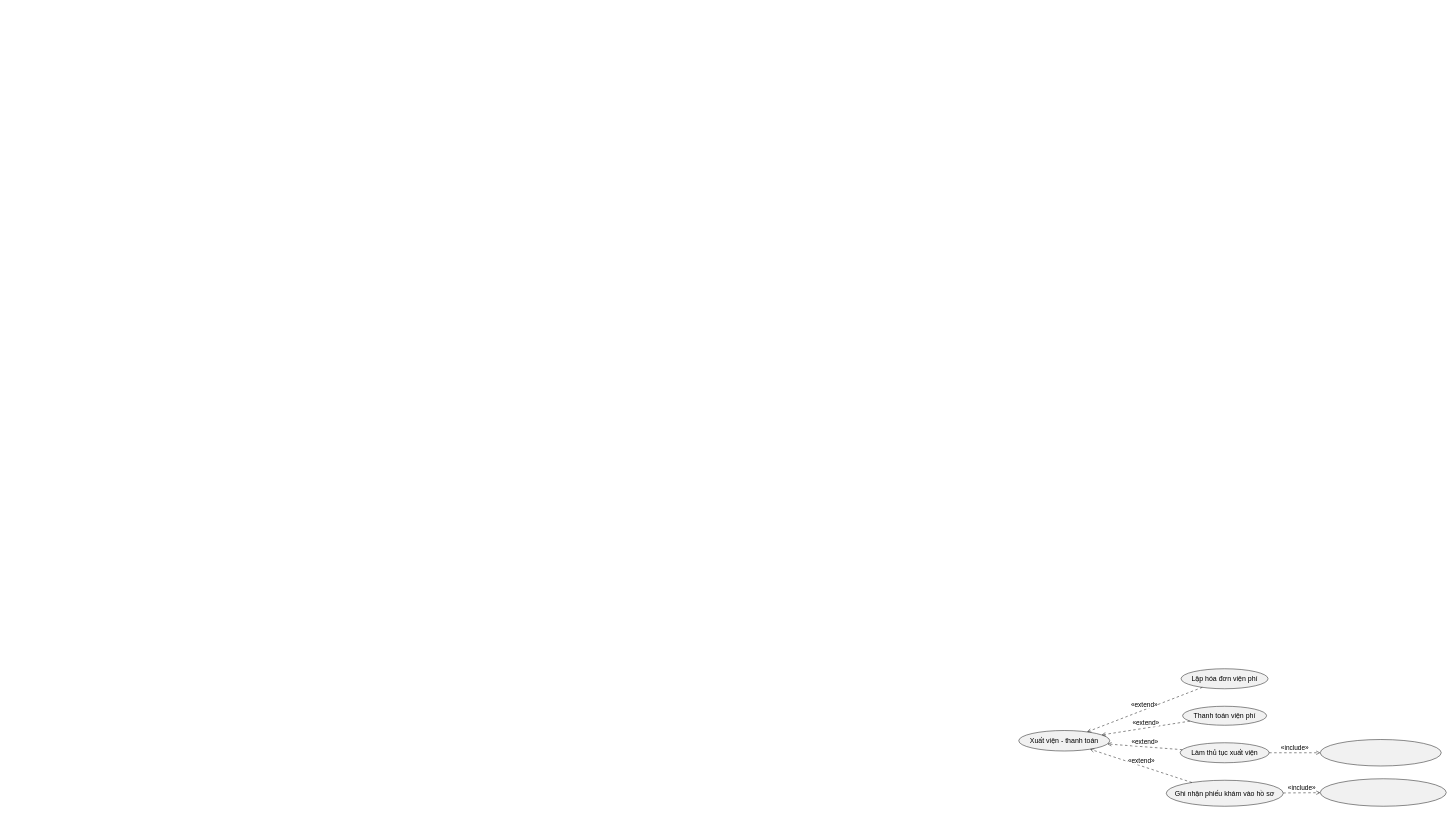
Some shapes in this 1455 by 815 pixel diagram are drawn without their labels. The shapes that lost their labels are listed below. From the top down, each one's centre as x and y in pixels, then its label:
At [1380,752]: "Kiểm tra viện phí đã thanh toán".
At [1383,792]: "Ghi nhận toa thuốc và xét nghiệm".
